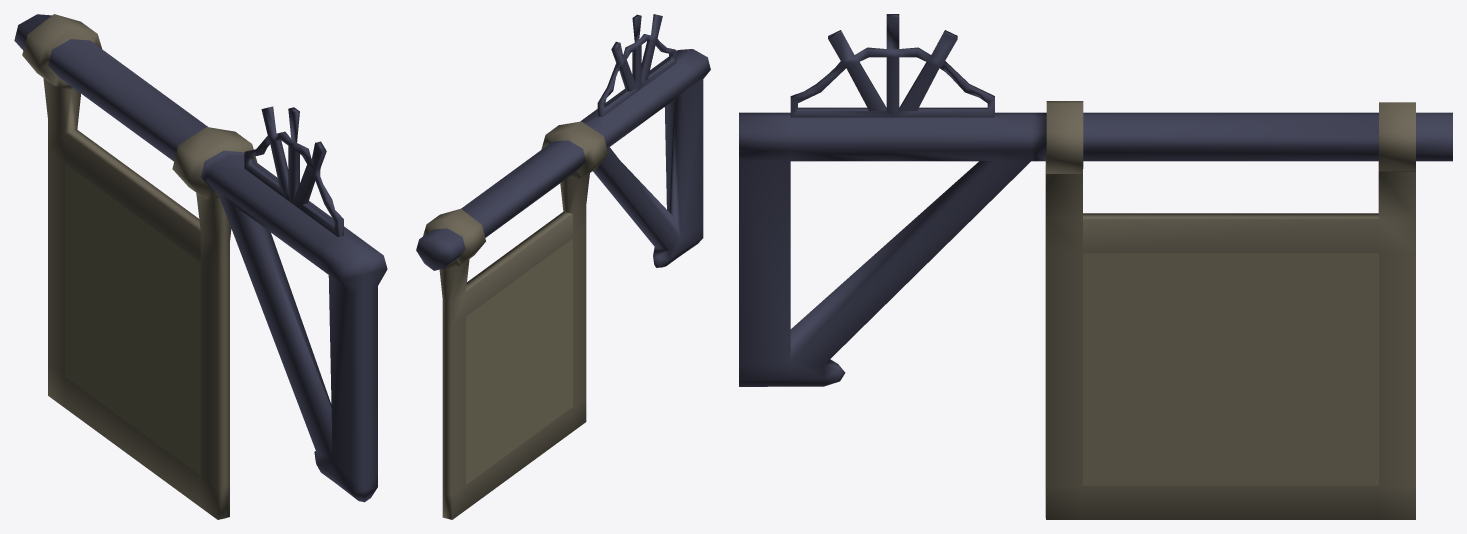
The model's file is Sign.fbx.
3 renders of one model, left to right at view 1: azimuth 30°, elevation 25°; view 2: azimuth 150°, elevation 25°; view 3: azimuth 270°, elevation 25°, orthographic. The views are drawn at different scales.
Parts seen in each view (by area): view 1: Sign; view 2: Sign; view 3: Sign.
Part boxes in pixels (x1=…): Sign: x1=14, y1=14, x2=387, y2=519; Sign: x1=416, y1=14, x2=710, y2=519; Sign: x1=739, y1=14, x2=1452, y2=519.
Size of the model in its own units: 23.37 by 193 by 150.
